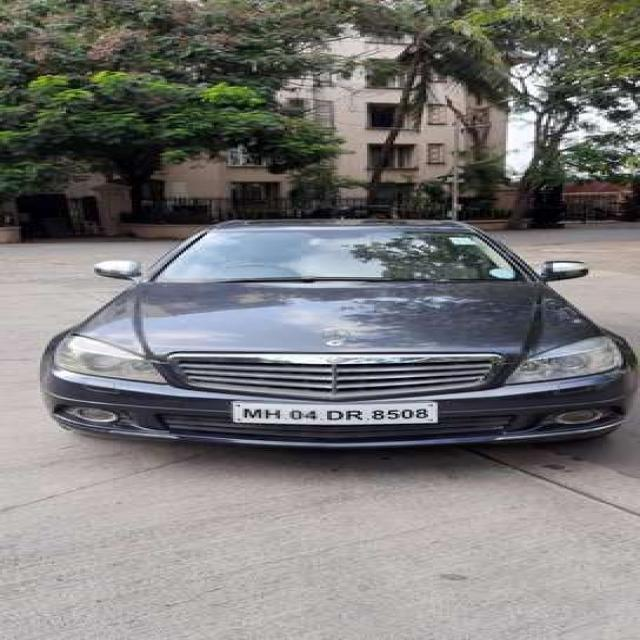Plate: (232, 399, 436, 423)
